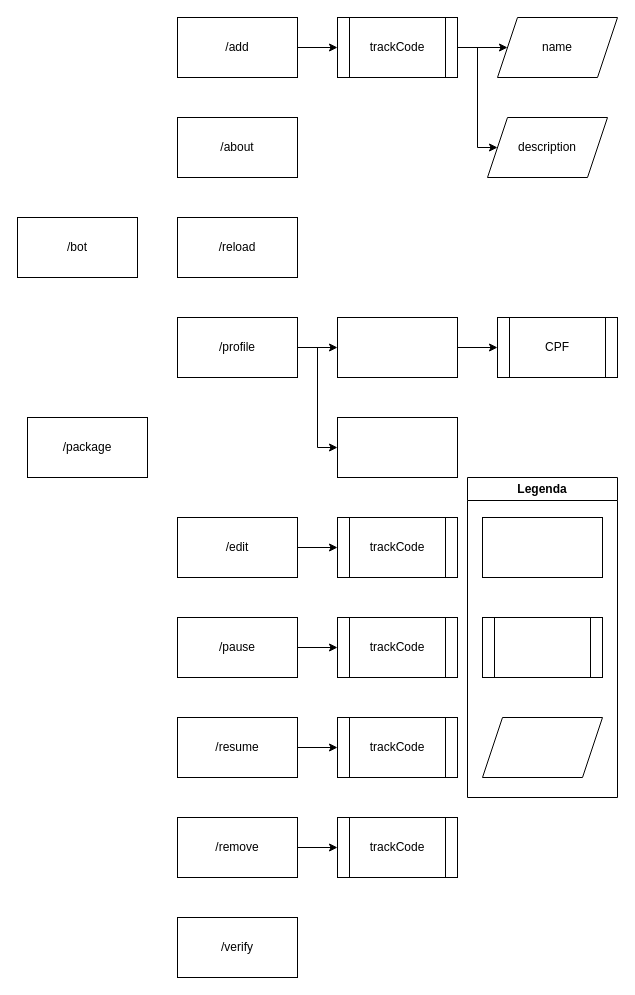
Some shapes in this 635 by 995 pixel diagram are drawn without their labels. The shapes that lost their labels are listed below. From the top down, each one's centre as x and y in pixels, then its label:
At (397,347): "edit".
At (397,447): "show".
At (542,547): "Comando / Sub-Comando".
At (542,647): "Parametro Obrigatorio".
At (542,747): "Parametro Opcional".
